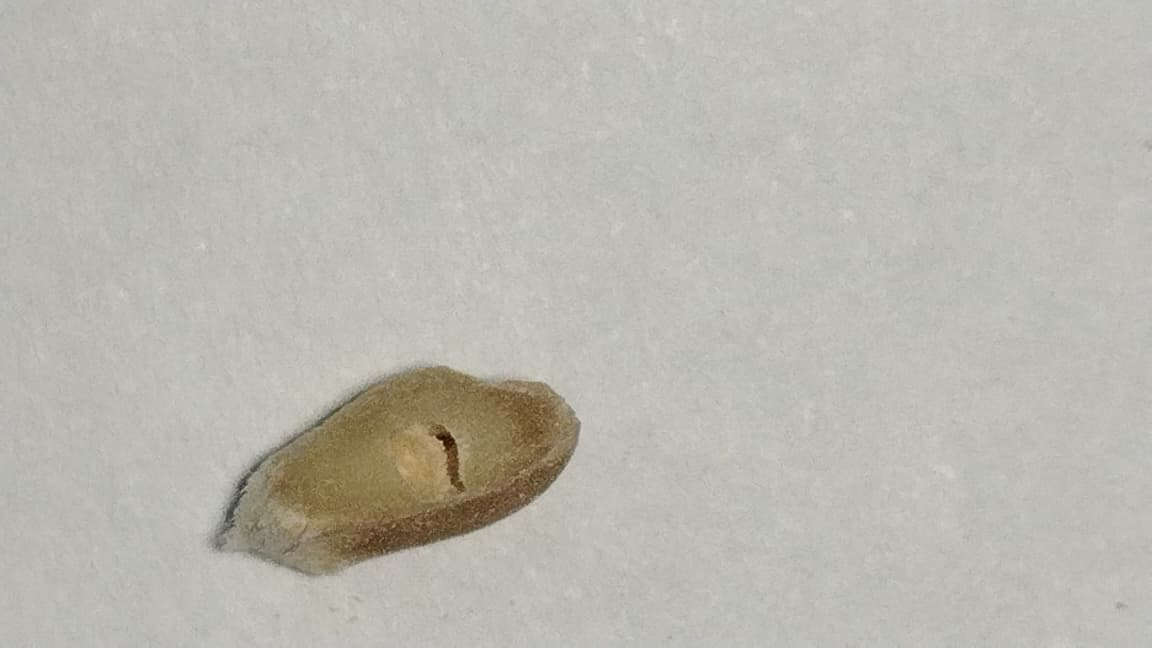damage: (235, 364, 577, 577)
insectdamage: (392, 399, 467, 499)
